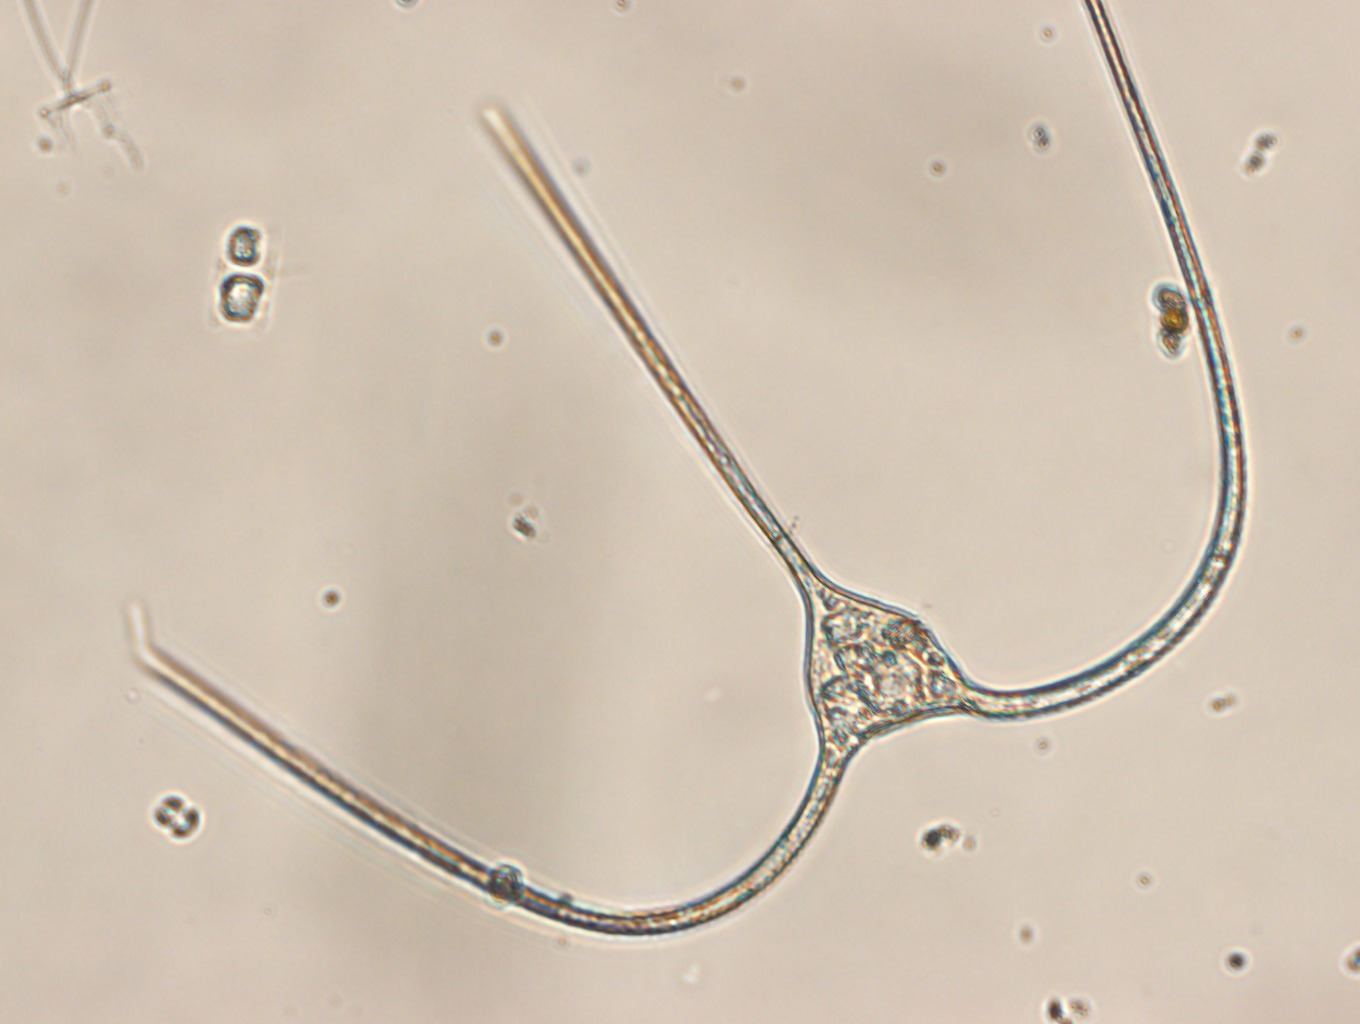ceratium trichoceros: (126, 1, 1248, 939)
